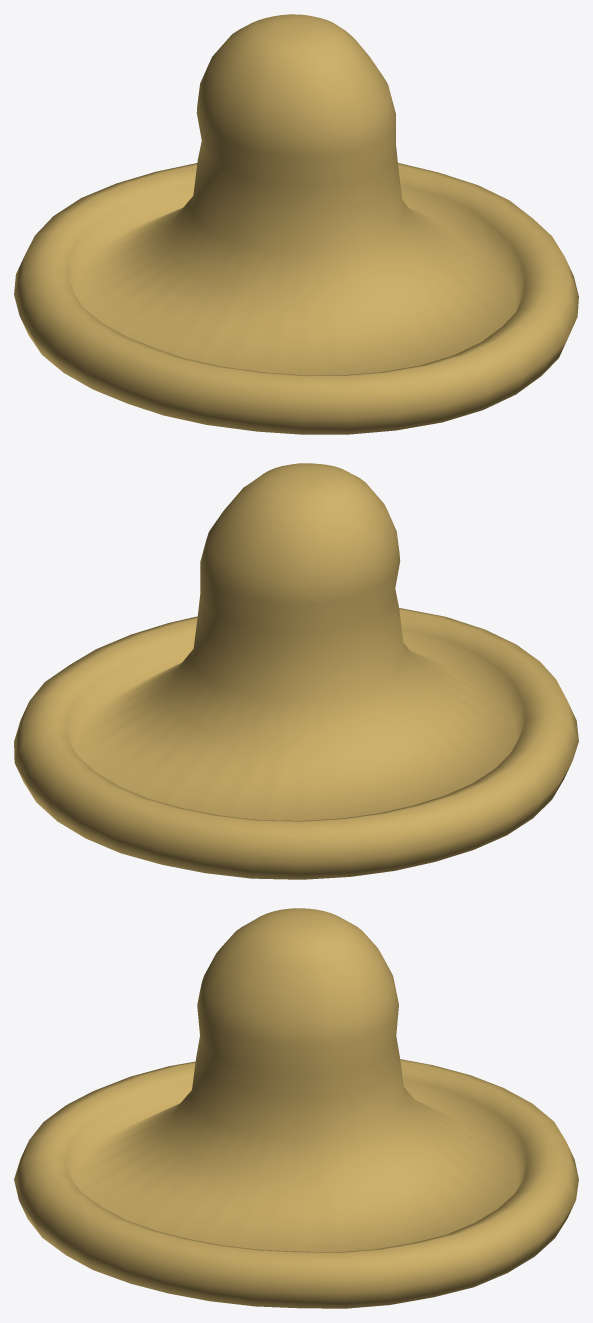
Rendered from Condom.fbx.
3 renders of one model, top to bottom at view 1: azimuth 30°, elevation 25°; view 2: azimuth 150°, elevation 25°; view 3: azimuth 270°, elevation 25°, orthographic. The views are drawn at different scales.
Visible parts, largest first — view 1: Condom; view 2: Condom; view 3: Condom.
Boxes of the visible parts, bbox=[...] form: Condom: bbox=[14, 14, 578, 434]; Condom: bbox=[14, 463, 578, 879]; Condom: bbox=[14, 908, 578, 1308].
Bounding box in the file's own units: 1.67 × 0.9846 × 1.77.
